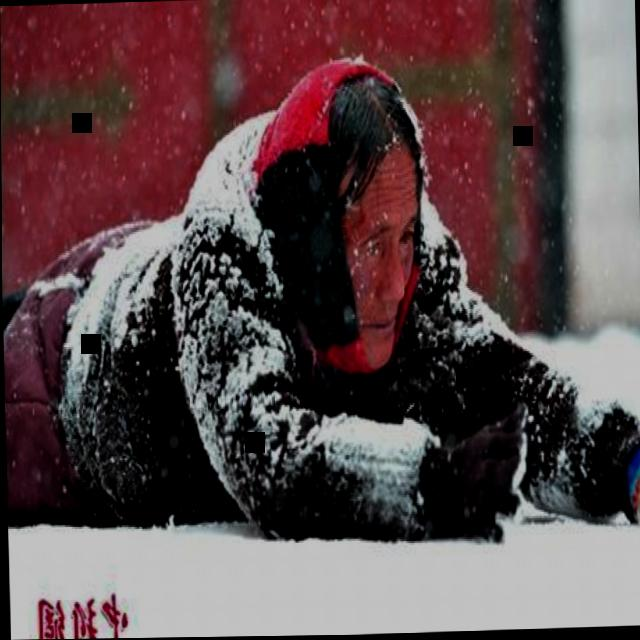Fall-Detected: (0, 12, 640, 587)
